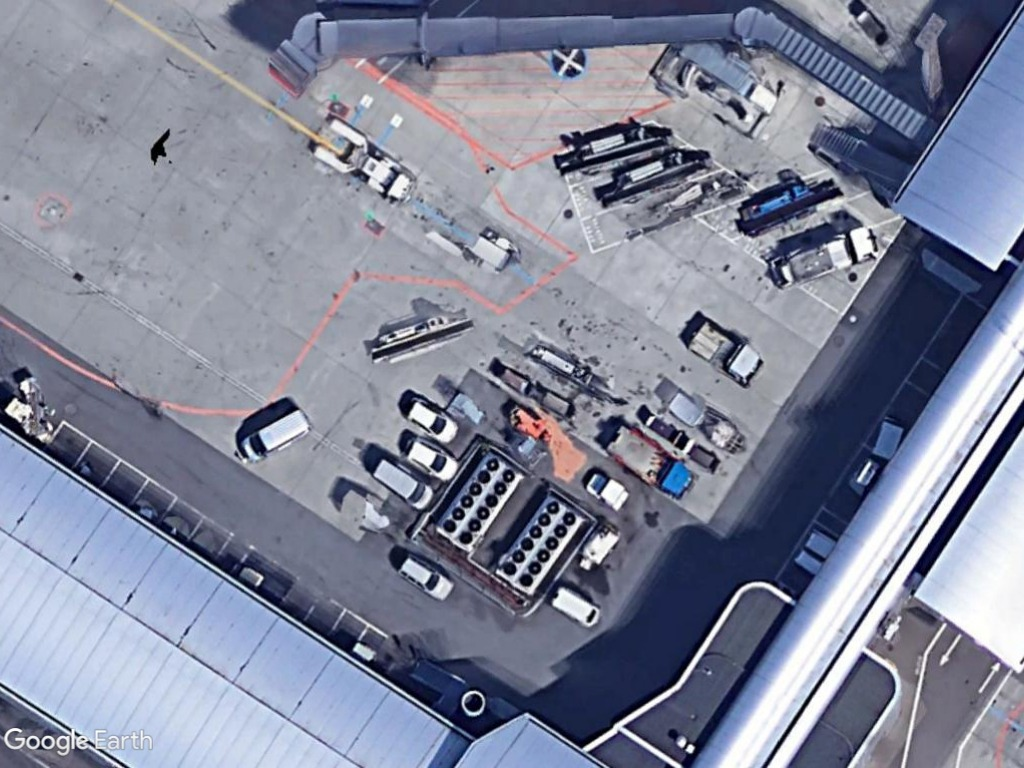car: (394, 545, 458, 607), (400, 389, 464, 448), (397, 431, 466, 480)
other: (762, 222, 879, 298)
pushbacktruck: (309, 114, 418, 207)
van: (235, 401, 318, 467), (364, 452, 443, 512), (543, 581, 606, 634)
